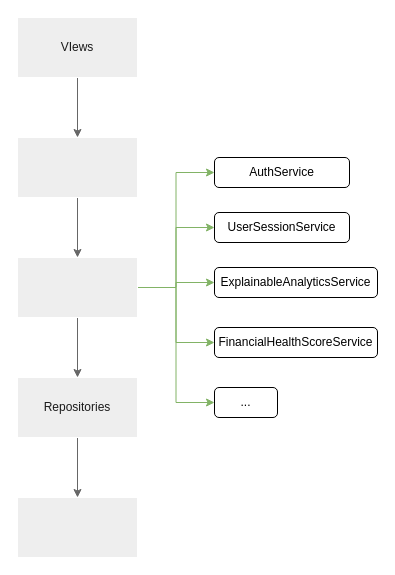
Some shapes in this 395 by 575 pixel diagram are drawn without their labels. The centre of each missing label's shape, as x and y in pixels:
"Services" goes at point 77,287.
"SQLite Database" goes at point 77,527.
"ViewModels" goes at point 77,167.
